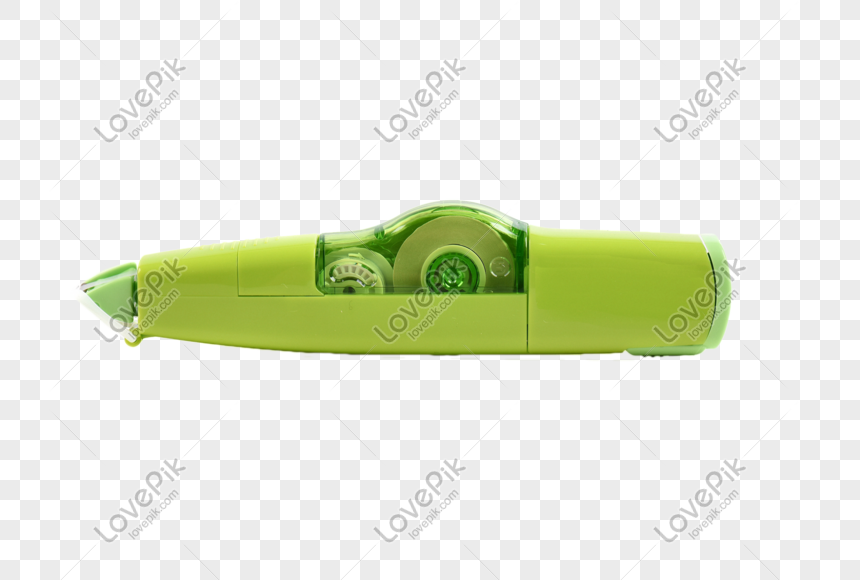Correction_fluid: (69, 195, 738, 368)
